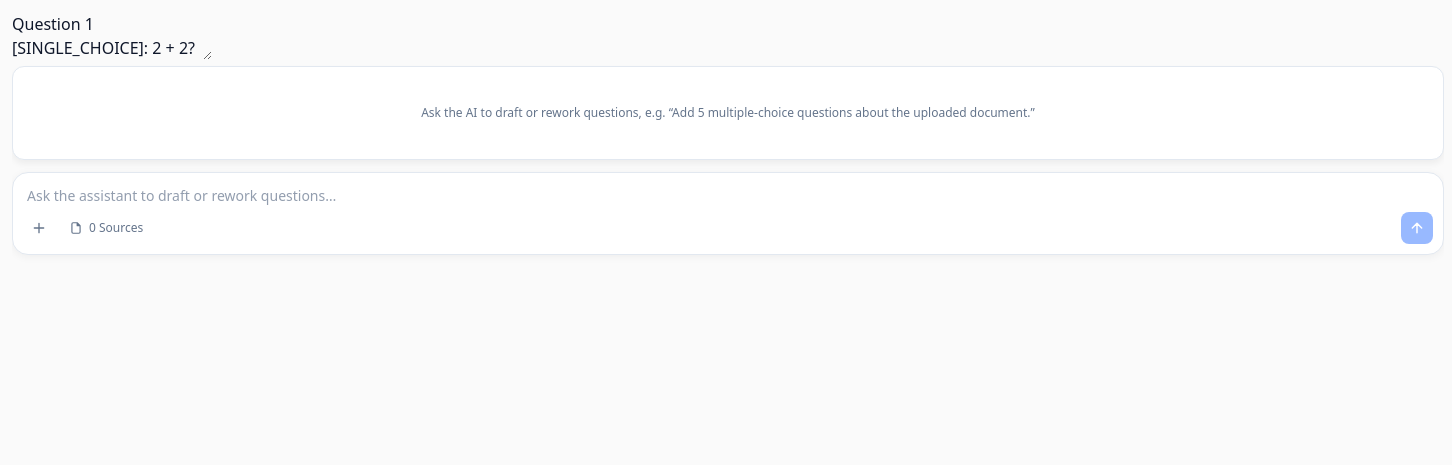
Test: Gate review round 3 — P1-2 question preservation › REPRO→FIX: a valid candidate that OMITS existing questions never auto-applies
In the text box named "Message the AI assistant": (728, 190) left=13, top=172, right=1443, bottom=208, type "add a question about networking"
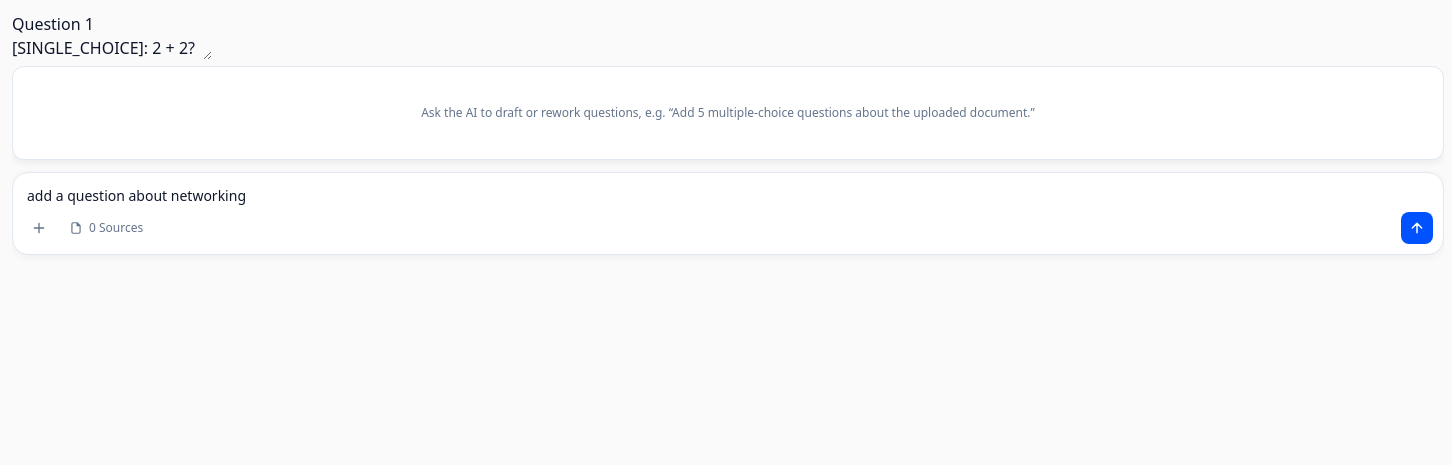
Click the button named "Send message": (1417, 228) left=1401, top=212, right=1433, bottom=244
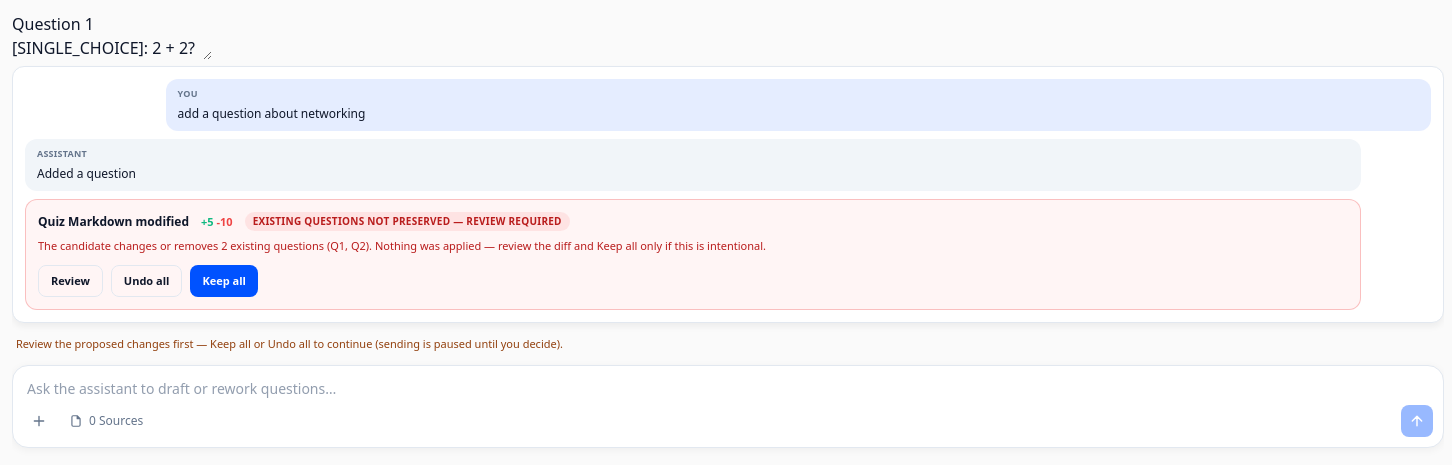
Expected: the element with test id "ai-merge-changes-card" is shown, left=25, top=199, right=1361, bottom=310
